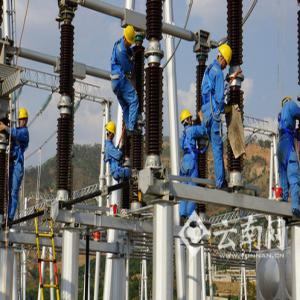yellow: (216, 45, 233, 70), (123, 25, 137, 49), (17, 109, 29, 130), (105, 121, 117, 142), (181, 111, 193, 130)
